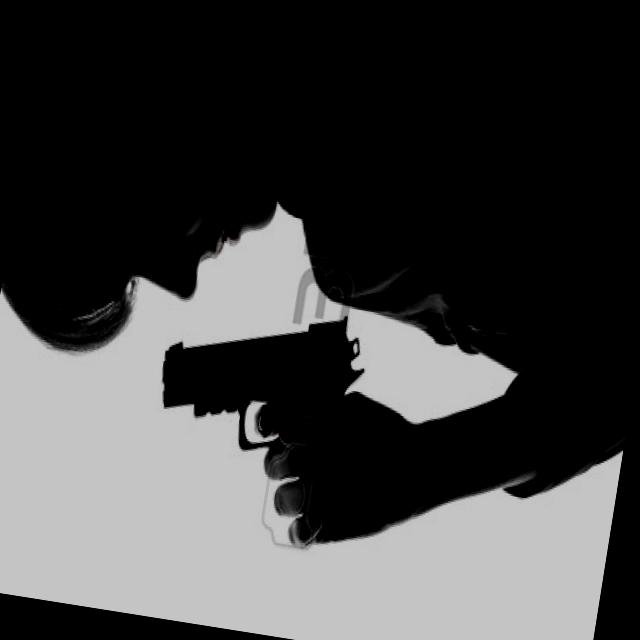handgun: (122, 282, 392, 574)
